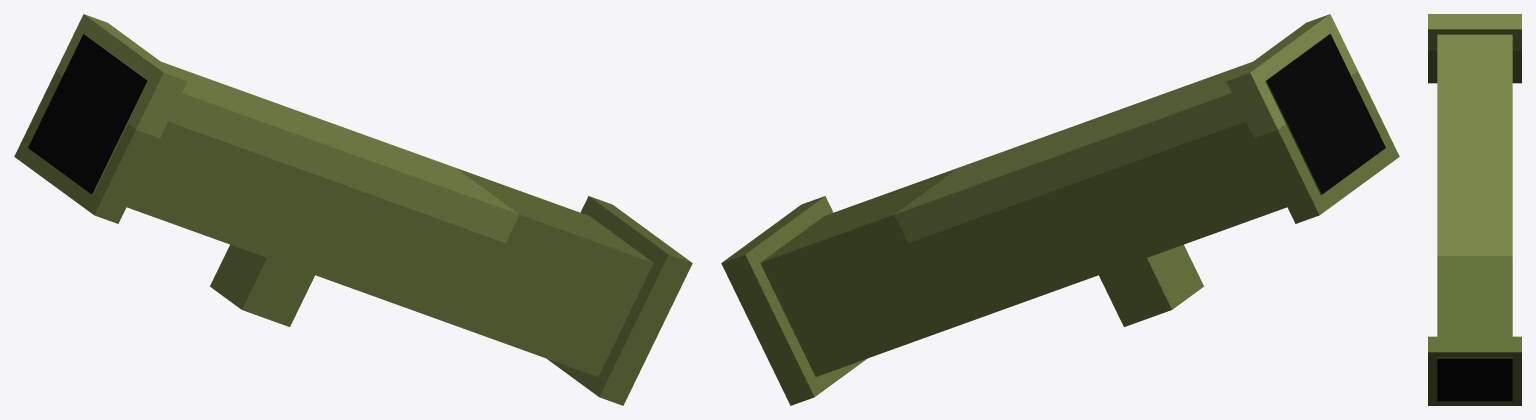
File: RPG.glb
3 views of the same model, side by side, from view 1: azimuth 30°, elevation 25°; view 2: azimuth 150°, elevation 25°; view 3: azimuth 270°, elevation 25° (orthographic). The views are drawn at different scales.
Parts seen in each view (by area): view 1: cube (×4); view 2: cube (×4); view 3: cube (×3).
Part boxes in pixels (<box>): cube (×4): <box>14,14,692,405</box>; cube (×4): <box>721,14,1399,405</box>; cube (×3): <box>1428,14,1521,405</box>.
Size of the model in its own units: 21.55 by 15.33 by 5.
Materials: 1 (1 with a texture image).
